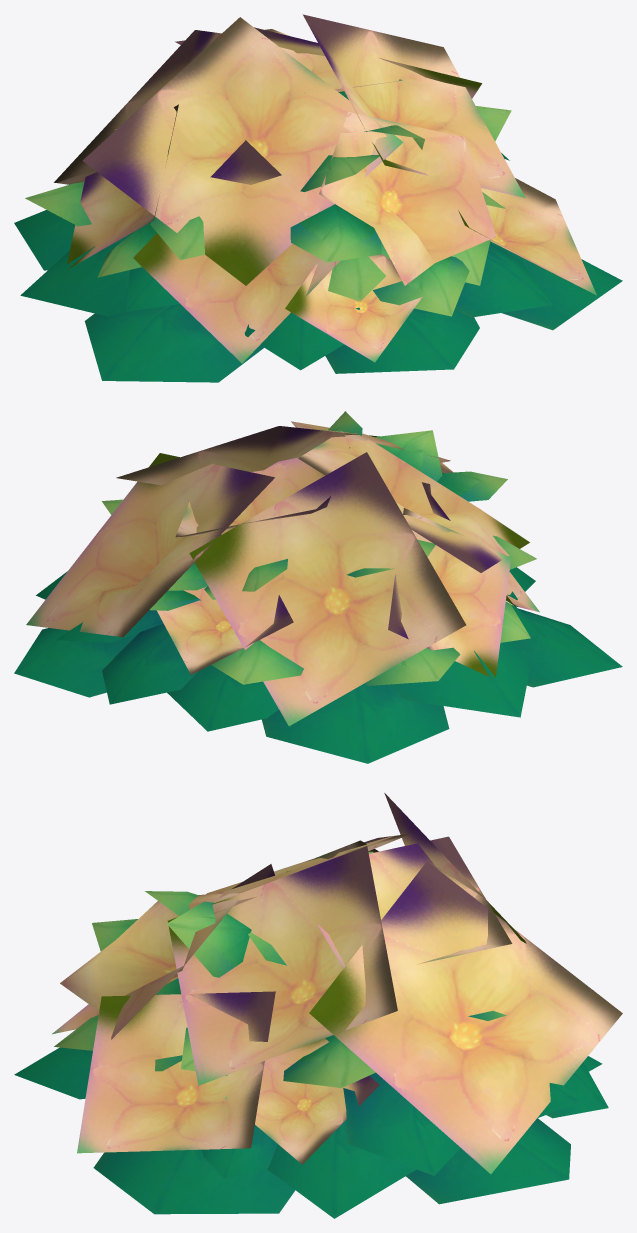
The model's file is Homeworld_Exterior_Common_Prop_Flower_FloralDesign_09_Vo.fbx.
The picture shows the model from 3 angles, top to bottom: view 1: azimuth 30°, elevation 25°; view 2: azimuth 150°, elevation 25°; view 3: azimuth 270°, elevation 25°; orthographic projection. The views are drawn at different scales.
Visible parts, largest first — view 1: Homeworld_Exterior_Common_Prop_Flower_FloralDesign_09_Vo; view 2: Homeworld_Exterior_Common_Prop_Flower_FloralDesign_09_Vo; view 3: Homeworld_Exterior_Common_Prop_Flower_FloralDesign_09_Vo.
Part boxes in pixels (box(x1,y1,x2,y2)): Homeworld_Exterior_Common_Prop_Flower_FloralDesign_09_Vo: box(14, 14, 622, 382); Homeworld_Exterior_Common_Prop_Flower_FloralDesign_09_Vo: box(14, 411, 622, 763); Homeworld_Exterior_Common_Prop_Flower_FloralDesign_09_Vo: box(14, 793, 622, 1218).
Size of the model in its own units: 0.3817 by 0.1885 by 0.3748.
